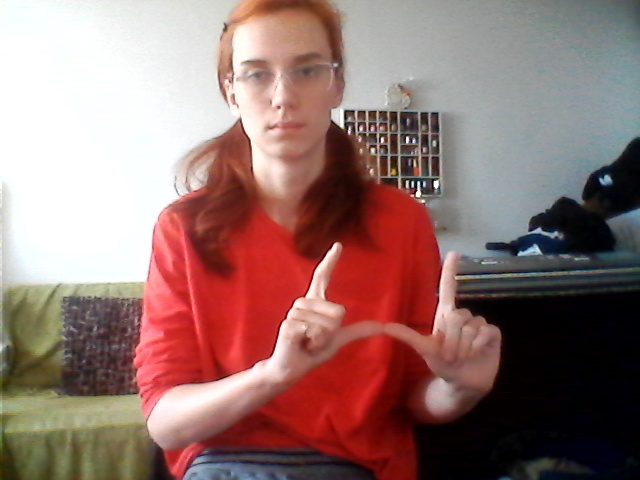u: (270, 235, 514, 402)
